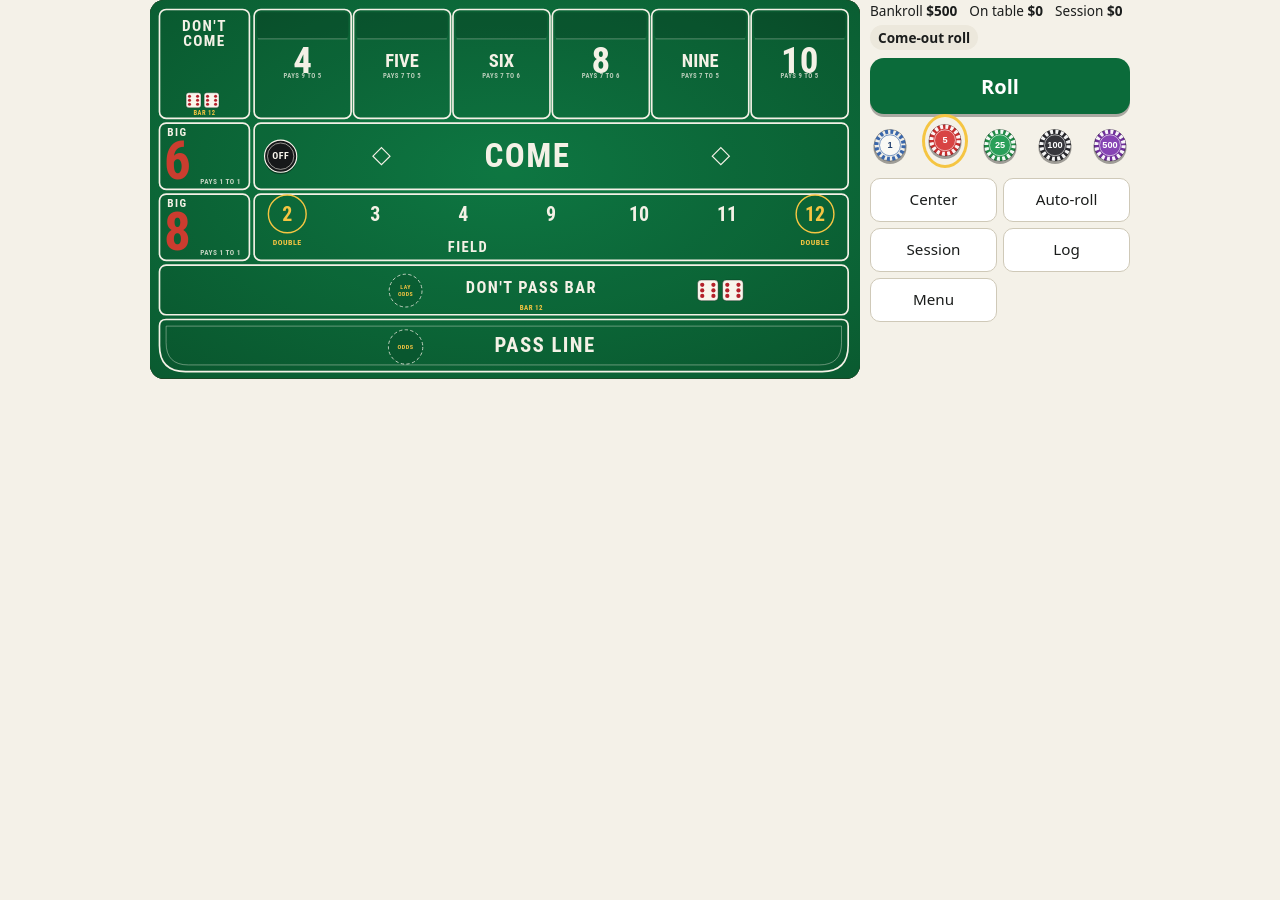
it: sandbox panel sheet (I064) › Tab from the revealed heading stays inside the sheet, and Escape works after tabbing out
Click the button "Session" at (934, 250), box [870,228,997,272]
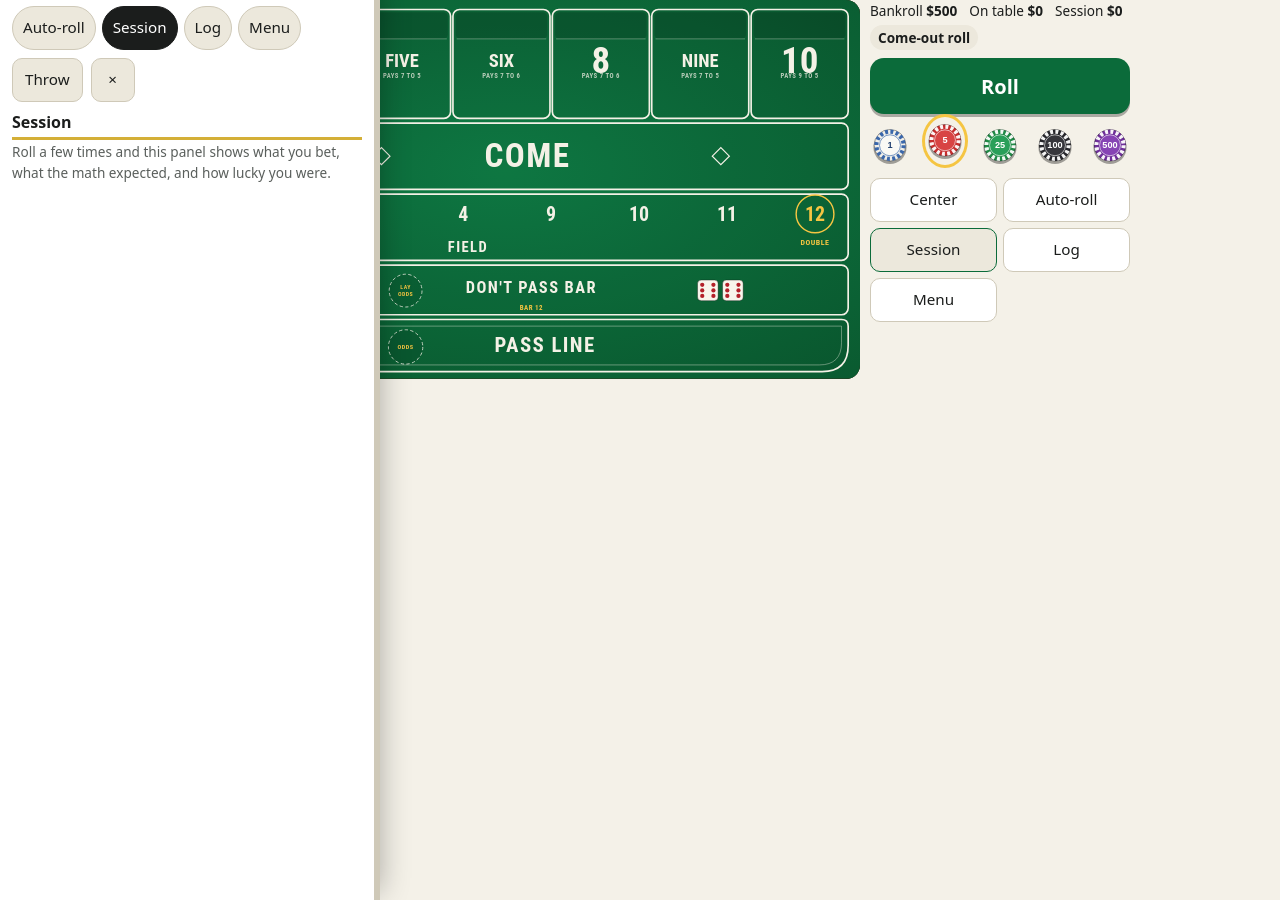
Press Tab in the heading "Session", box [12,111,72,133]
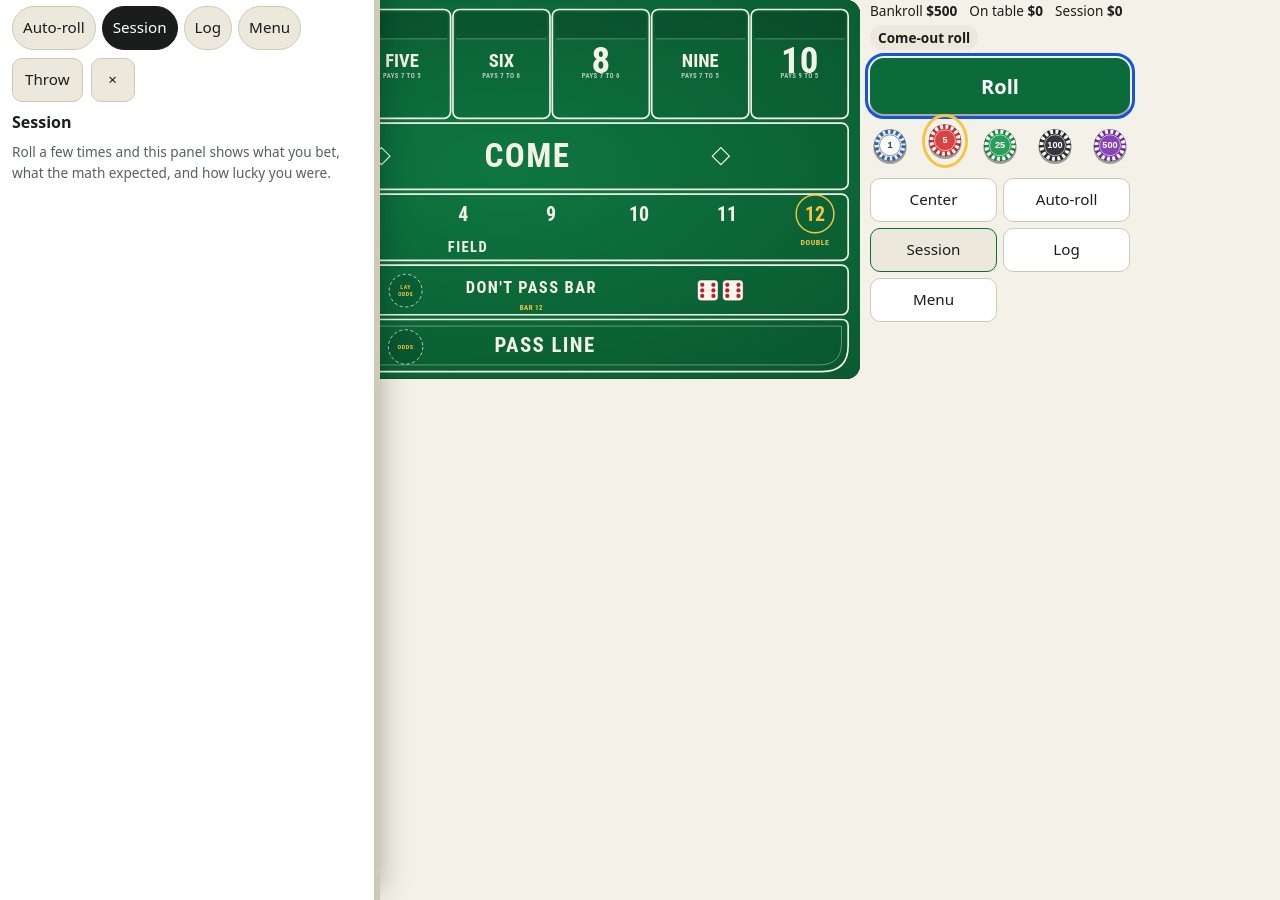
Press Tab in the button "Roll", box [870,58,1130,114]
Press Escape in the button "Roll", box [870,58,1130,114]
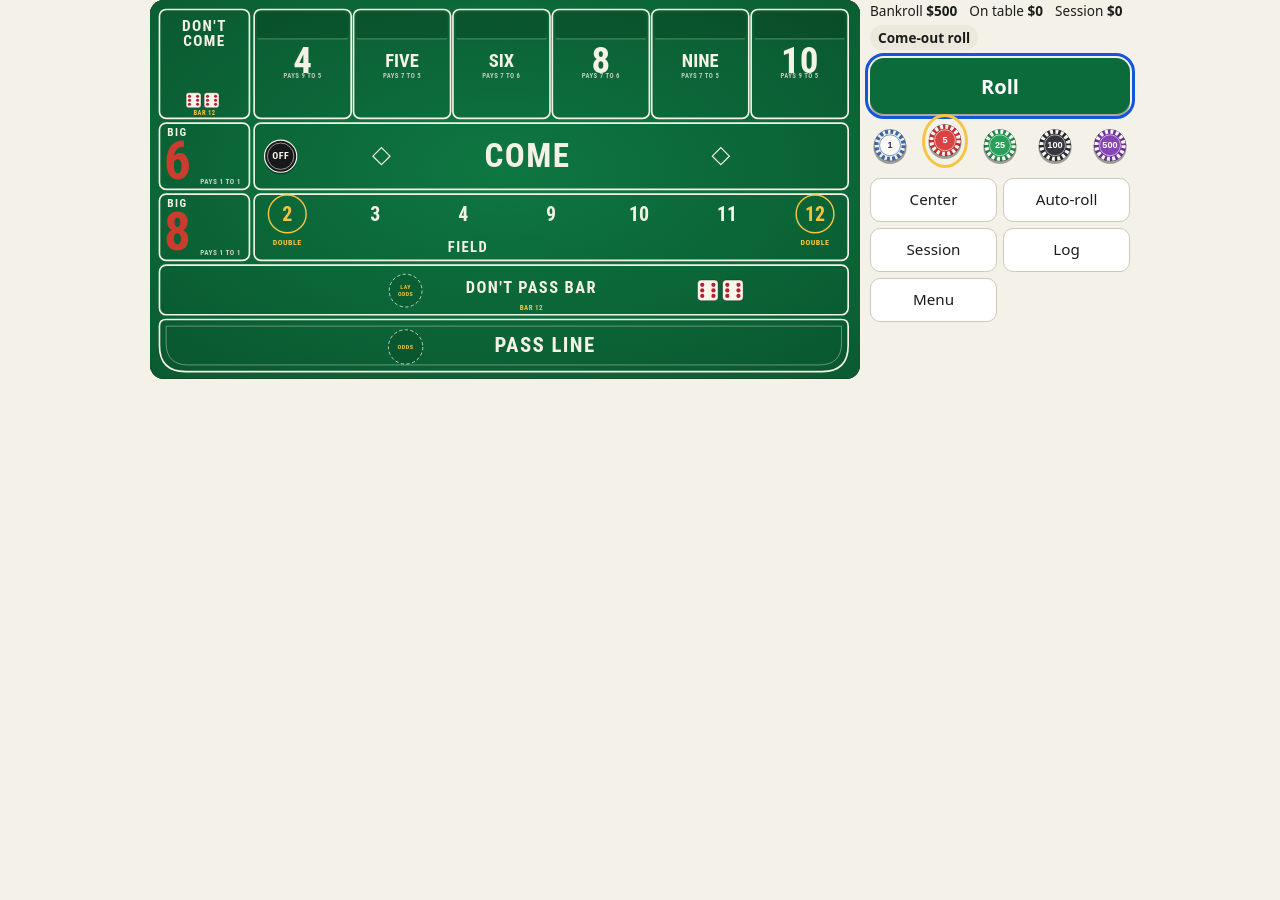
Now the dialog is gone
